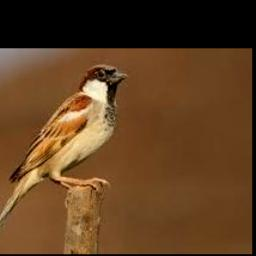Sparrow: (0, 64, 128, 236)
